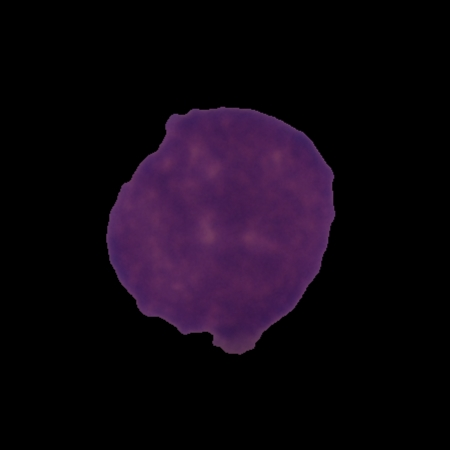HEM: (103, 104, 339, 357)
